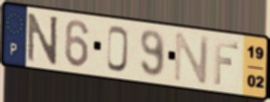0: (106, 25, 130, 73)
6: (63, 18, 91, 69)
9: (139, 28, 167, 79)
F: (212, 38, 240, 87)
N: (172, 30, 212, 85), (26, 11, 60, 66)
